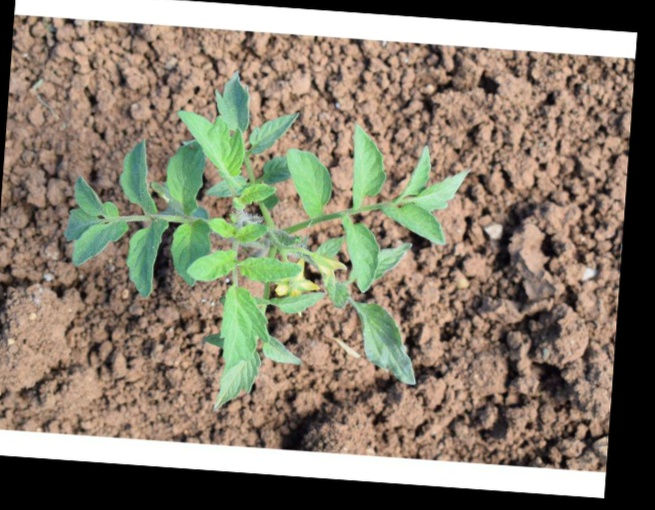tomato: (64, 74, 463, 409)
